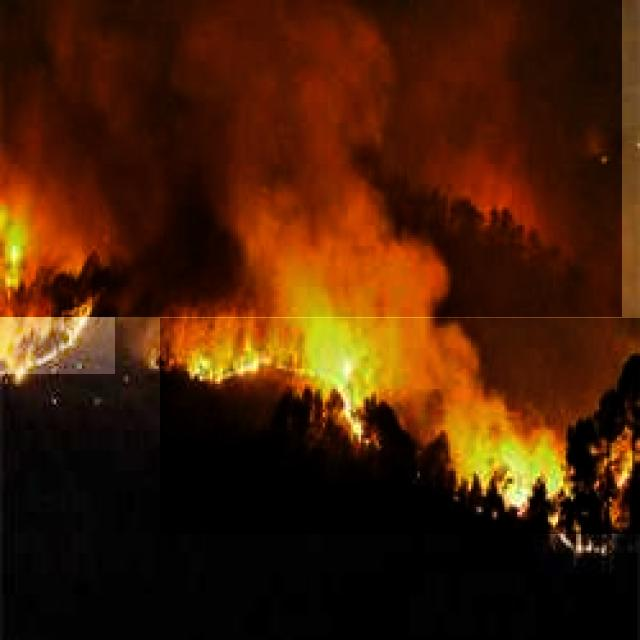Fire: (160, 318, 640, 534), (0, 198, 115, 374)
Smoke: (0, 0, 622, 317)
